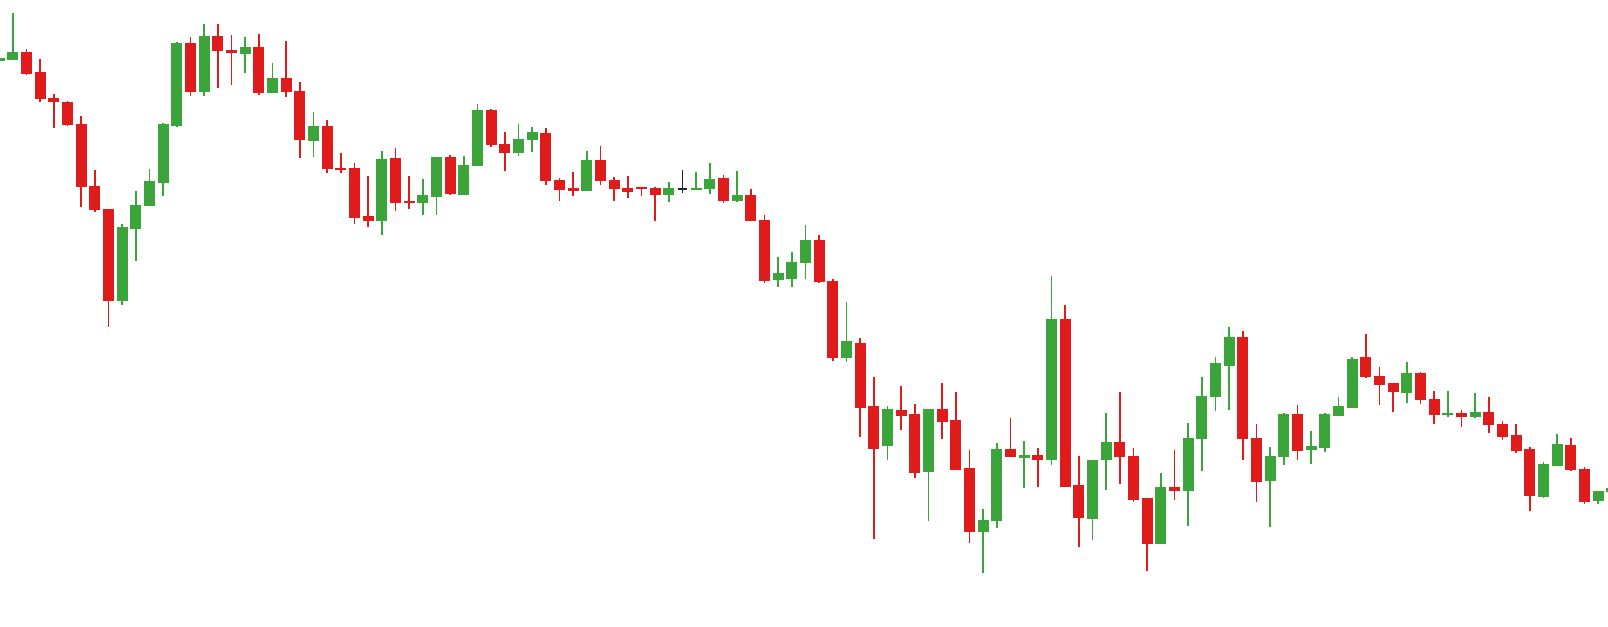buy: (866, 424, 988, 581), (1182, 402, 1279, 525), (1071, 462, 1168, 572)
